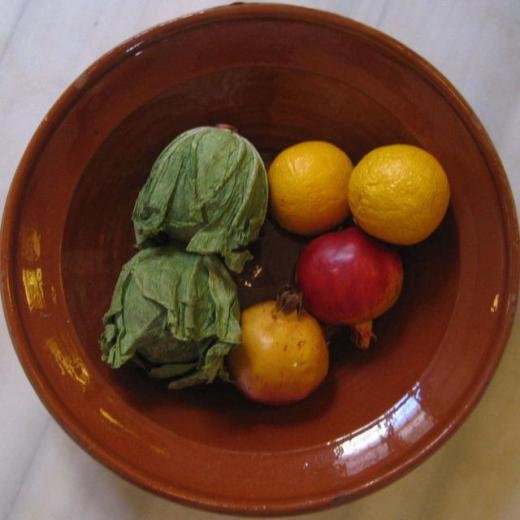Grape: (348, 143, 452, 246), (268, 141, 354, 234)
